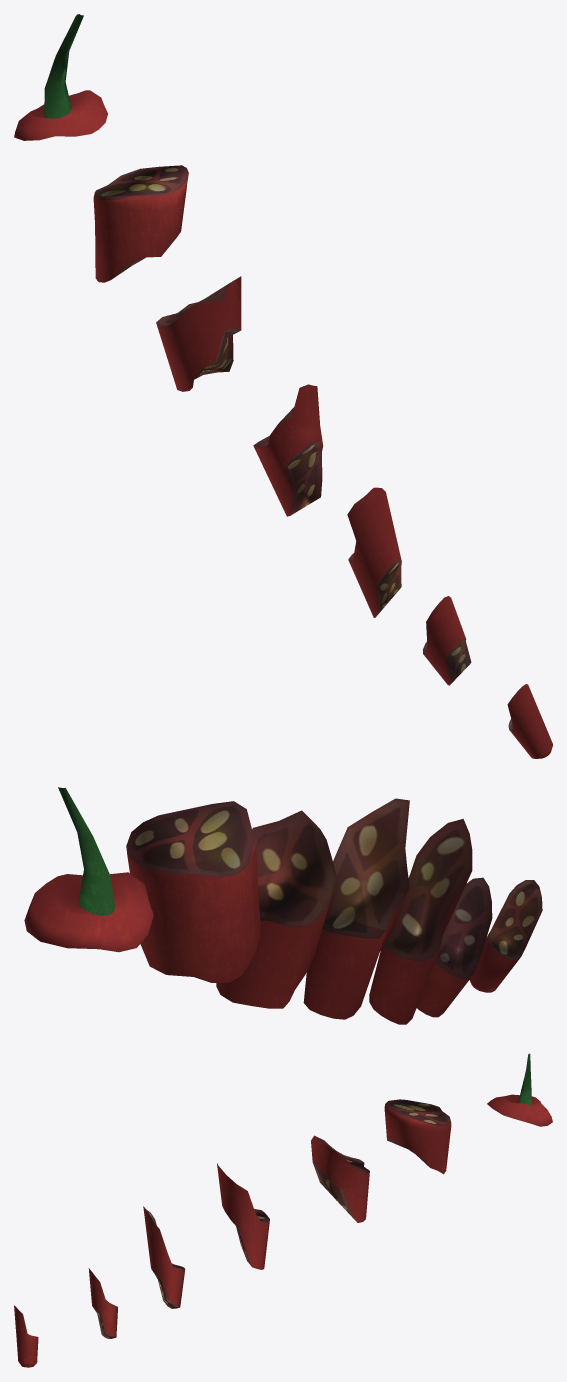
File: chilli_fruit.glb
3 renders of one model, top to bottom at view 1: azimuth 30°, elevation 25°; view 2: azimuth 150°, elevation 25°; view 3: azimuth 270°, elevation 25°, orthographic. The views are drawn at different scales.
Parts seen in each view (by area): view 1: chili:polySurface1; view 2: chili:polySurface1; view 3: chili:polySurface1.
Boxes of the visible parts, x1,y1,x2,y2 form: chili:polySurface1: [14, 14, 552, 758]; chili:polySurface1: [24, 787, 542, 1024]; chili:polySurface1: [14, 1053, 552, 1367].
Bounding box in the file's own units: 0.6173 × 2 × 3.32.
1 material, 1 textured.
